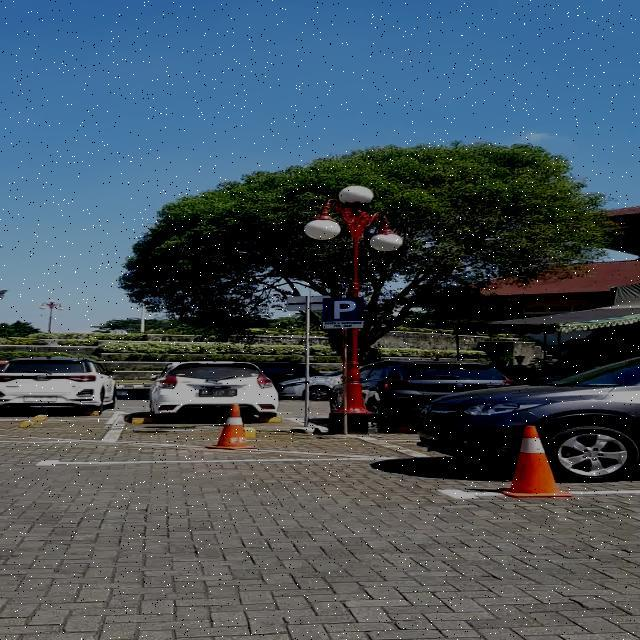Tempat Parkir: (323, 298, 363, 328)
